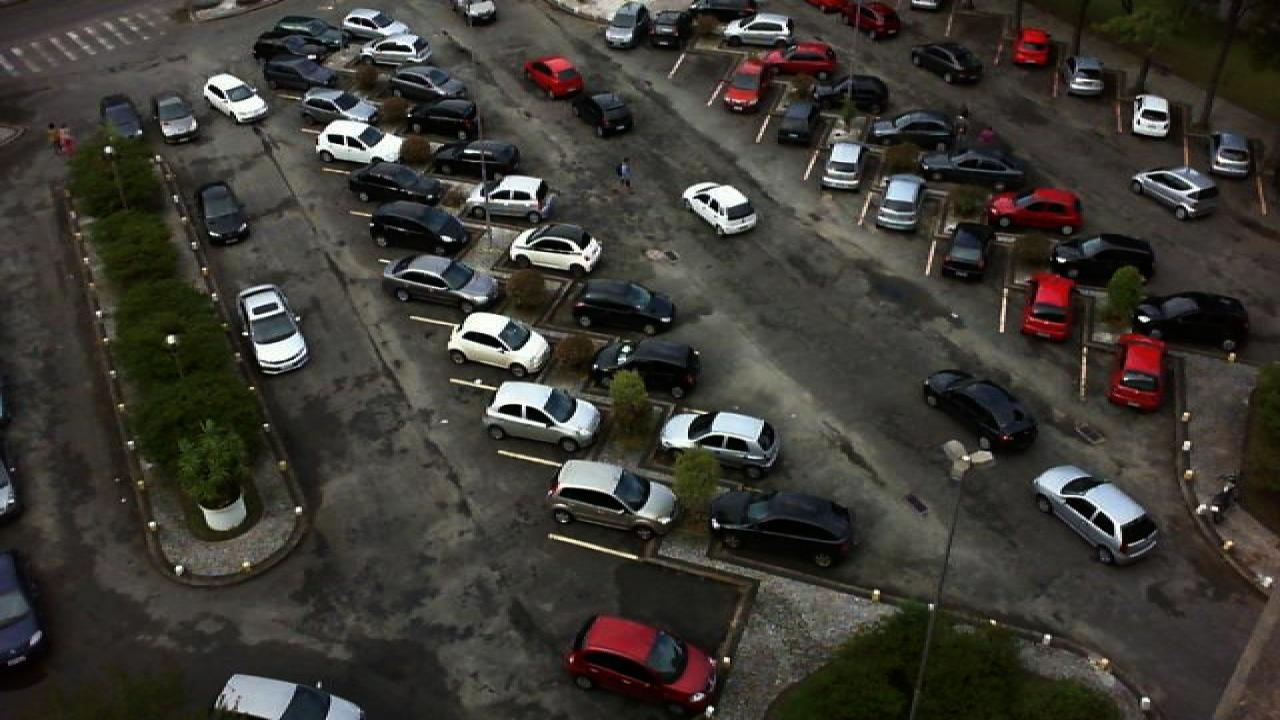Car: (562, 614, 722, 718), (1032, 463, 1162, 566), (708, 488, 856, 568), (544, 459, 680, 539), (920, 368, 1038, 454), (654, 408, 784, 481), (480, 379, 604, 453), (444, 309, 558, 379), (208, 673, 368, 720), (590, 335, 702, 400), (1130, 290, 1252, 349), (236, 282, 310, 376), (378, 254, 502, 308), (568, 278, 678, 335), (368, 200, 472, 258), (1048, 233, 1158, 286), (504, 223, 604, 278), (1128, 166, 1220, 219), (310, 118, 404, 169), (456, 174, 550, 224), (1108, 332, 1166, 413), (918, 148, 1024, 192), (988, 189, 1086, 235), (348, 160, 444, 206), (682, 181, 760, 237), (430, 137, 522, 181), (868, 109, 960, 152), (1020, 271, 1074, 342), (908, 40, 984, 86), (202, 73, 268, 125), (198, 181, 250, 245), (816, 73, 890, 116), (406, 100, 478, 143), (940, 222, 992, 280), (716, 56, 766, 115), (572, 92, 634, 138), (874, 174, 922, 233), (298, 89, 372, 127), (380, 76, 458, 112), (714, 14, 796, 48), (520, 55, 584, 98), (758, 40, 838, 74), (250, 39, 328, 73), (254, 14, 332, 48), (270, 63, 346, 97), (818, 141, 868, 191), (362, 36, 434, 70), (840, 0, 902, 39), (98, 92, 144, 143), (152, 93, 198, 143), (1208, 132, 1256, 178), (774, 100, 822, 145), (1130, 94, 1174, 142), (340, 7, 408, 37), (604, 1, 644, 51), (642, 9, 686, 54), (1066, 54, 1108, 98), (1012, 27, 1052, 69)
